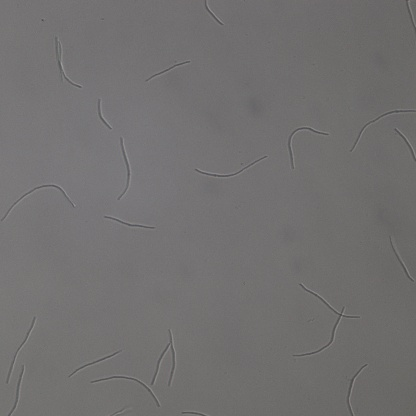Sensitive: (1, 183, 77, 224), (351, 104, 416, 150), (293, 307, 345, 357), (90, 374, 159, 408), (301, 283, 361, 319), (287, 125, 329, 168), (7, 318, 35, 380), (194, 156, 267, 178), (53, 38, 82, 89), (153, 329, 178, 388), (69, 350, 121, 376), (343, 363, 368, 416), (390, 236, 416, 284), (7, 366, 26, 416), (145, 60, 190, 81), (103, 213, 155, 231), (117, 137, 132, 199), (396, 129, 416, 163), (94, 98, 112, 130), (203, 1, 223, 26)
